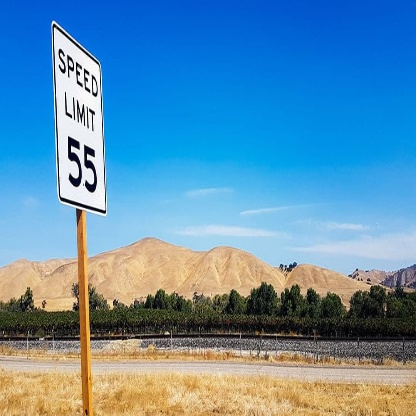limit1: (48, 19, 113, 219)
